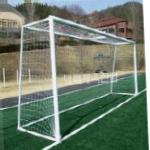goals: (17, 13, 140, 141)
